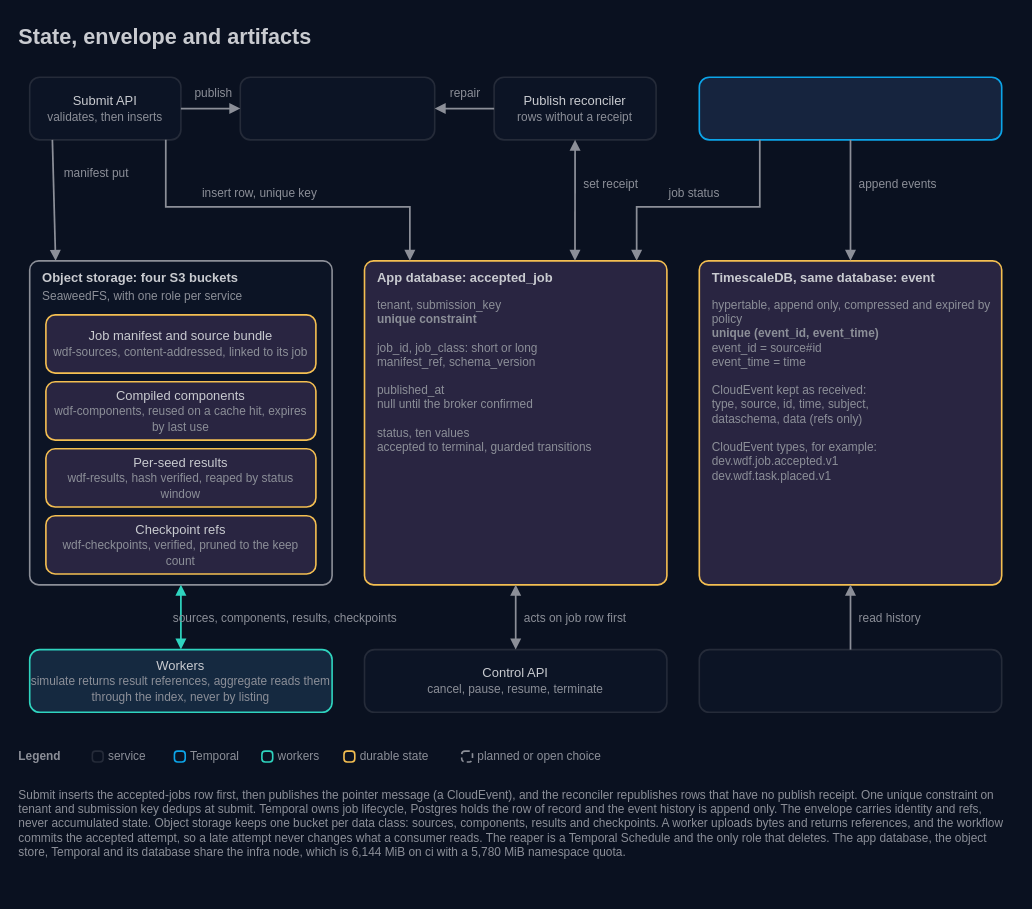
This 1032x909 diagram has some shape labels left out. Each missing label, with the centre of its shape:
"Dashboards and queries read event history" belongs at [850,680].
"Intake CloudEvent dev.wdf.job.accepted.v1, pointer only" belongs at [337,108].
"Temporal workflow and activities" belongs at [850,108].
